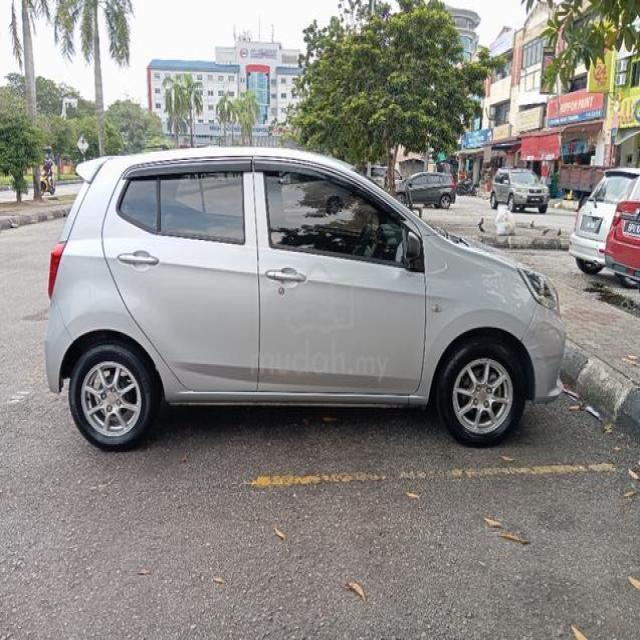PeroduaAxia: (42, 143, 567, 451)
